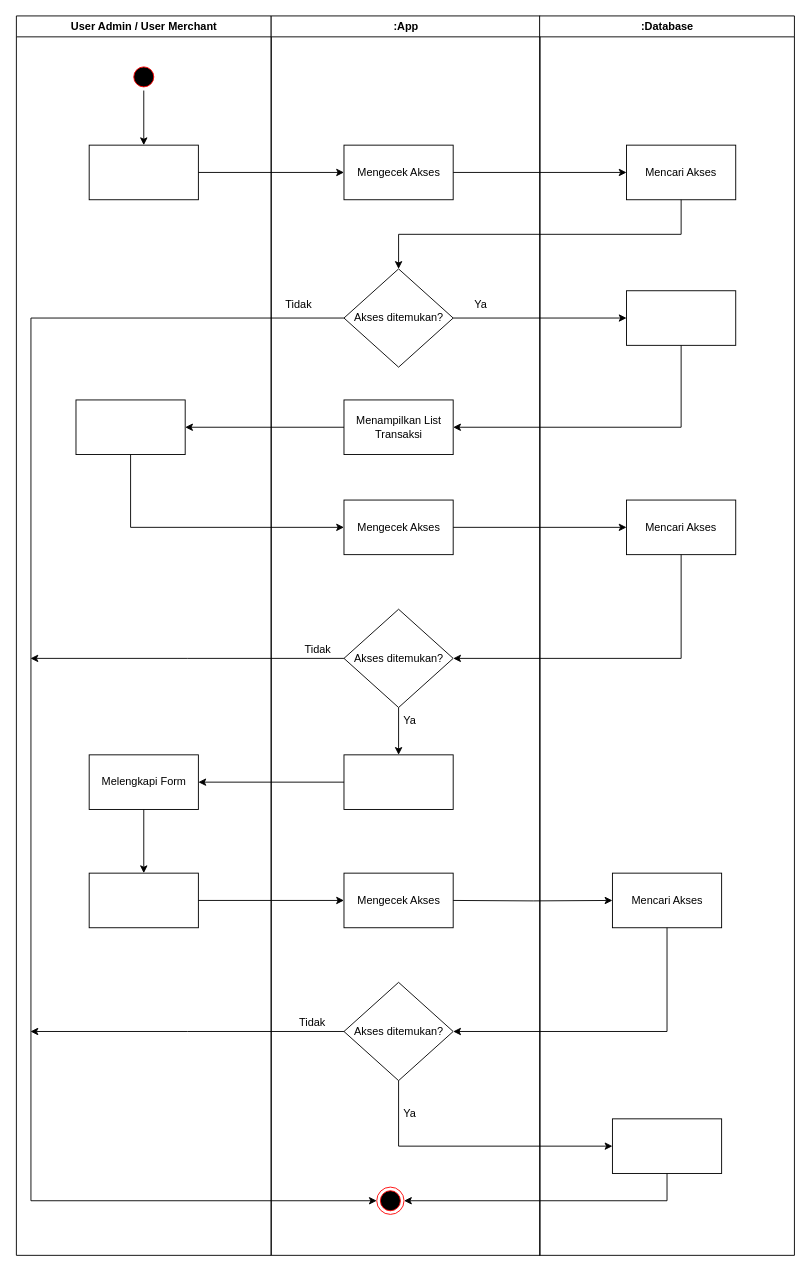
Some shapes in this 810 by 1271 pixel diagram are drawn without their labels. The centre of each missing label's shape, as x and y in pixels:
"Klik Add New Merchant / Edit Merchant" belongs at (x=130, y=427).
"Klik Simpan" belongs at (x=143, y=900).
"Membuka Menu Merchant" belongs at (x=143, y=172).
"Menampilkan Form" belongs at (x=398, y=781).
"Mendapatkan List Merchant" belongs at (x=681, y=317).
"Menyimpan Data" belongs at (x=667, y=1145).
